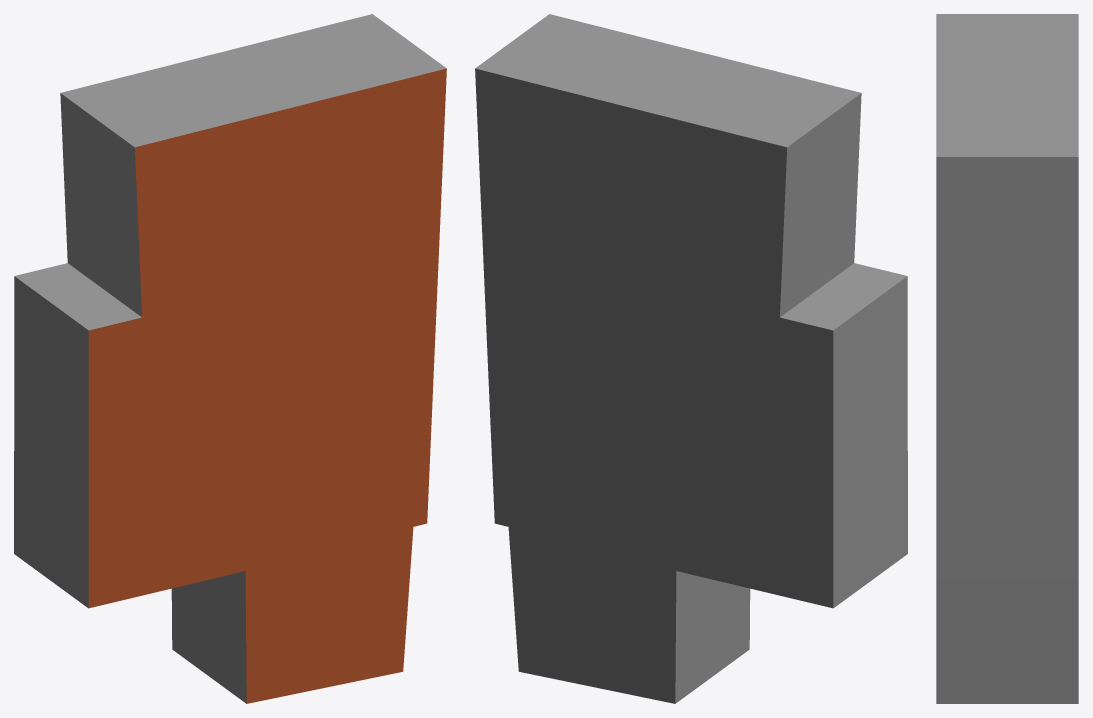
The model's file is construction_4743_assumed_A_Casa_h6m.obj.
The picture shows the model from 3 angles, left to right: view 1: azimuth 30°, elevation 25°; view 2: azimuth 150°, elevation 25°; view 3: azimuth 270°, elevation 25°; orthographic projection. The views are drawn at different scales.
Visible parts, largest first — view 1: construction_4743_assumed_A_Casa; view 2: construction_4743_assumed_A_Casa; view 3: construction_4743_assumed_A_Casa.
Boxes of the visible parts, x1,y1,x2,y2 form: construction_4743_assumed_A_Casa: (14,14,446,703); construction_4743_assumed_A_Casa: (475,14,907,703); construction_4743_assumed_A_Casa: (936,14,1078,703).
Size of the model in its own units: 16.68 by 26.35 by 6.
